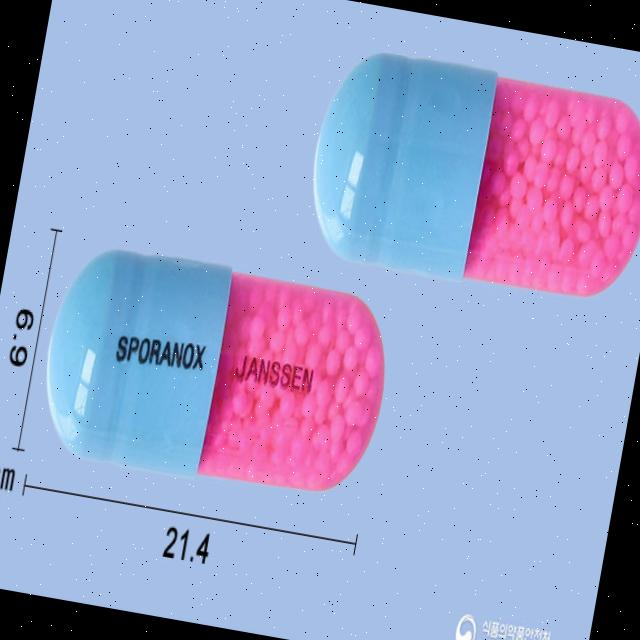Sporanox Cap: (31, 238, 402, 501), (296, 37, 640, 308)
